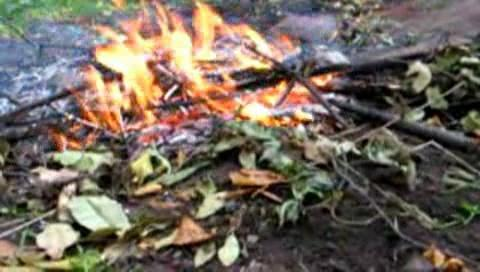fire: (82, 23, 311, 121)
